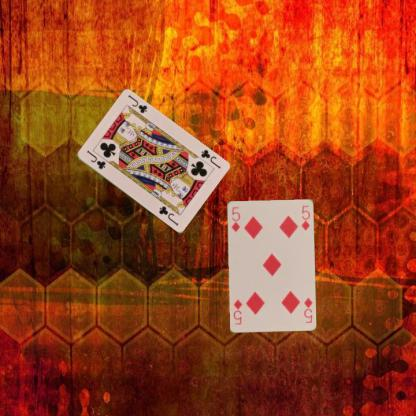5d: (229, 204, 241, 233), (301, 295, 313, 324)
Jc: (198, 147, 222, 170), (84, 147, 107, 170)
